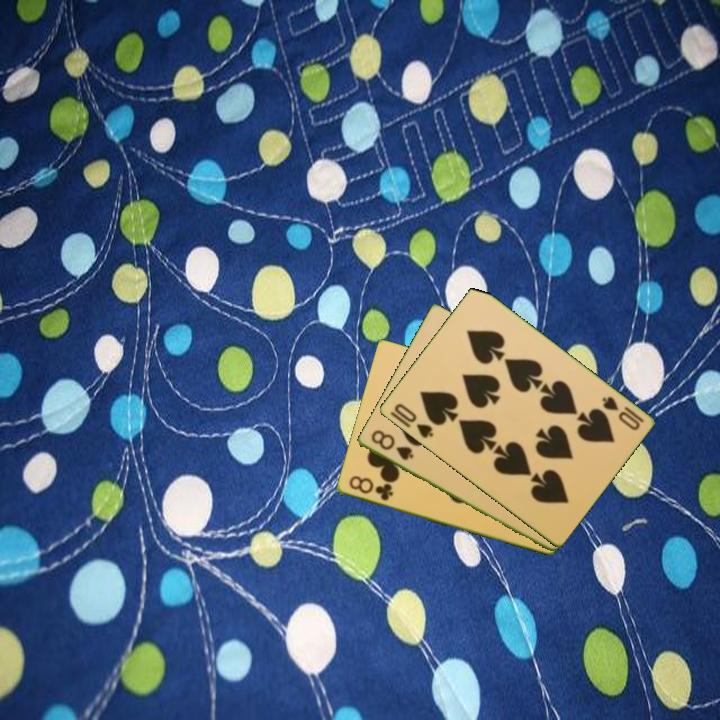10s: (598, 393, 647, 434), (390, 400, 436, 441)
8c: (345, 472, 396, 504)
8s: (367, 426, 416, 463)
